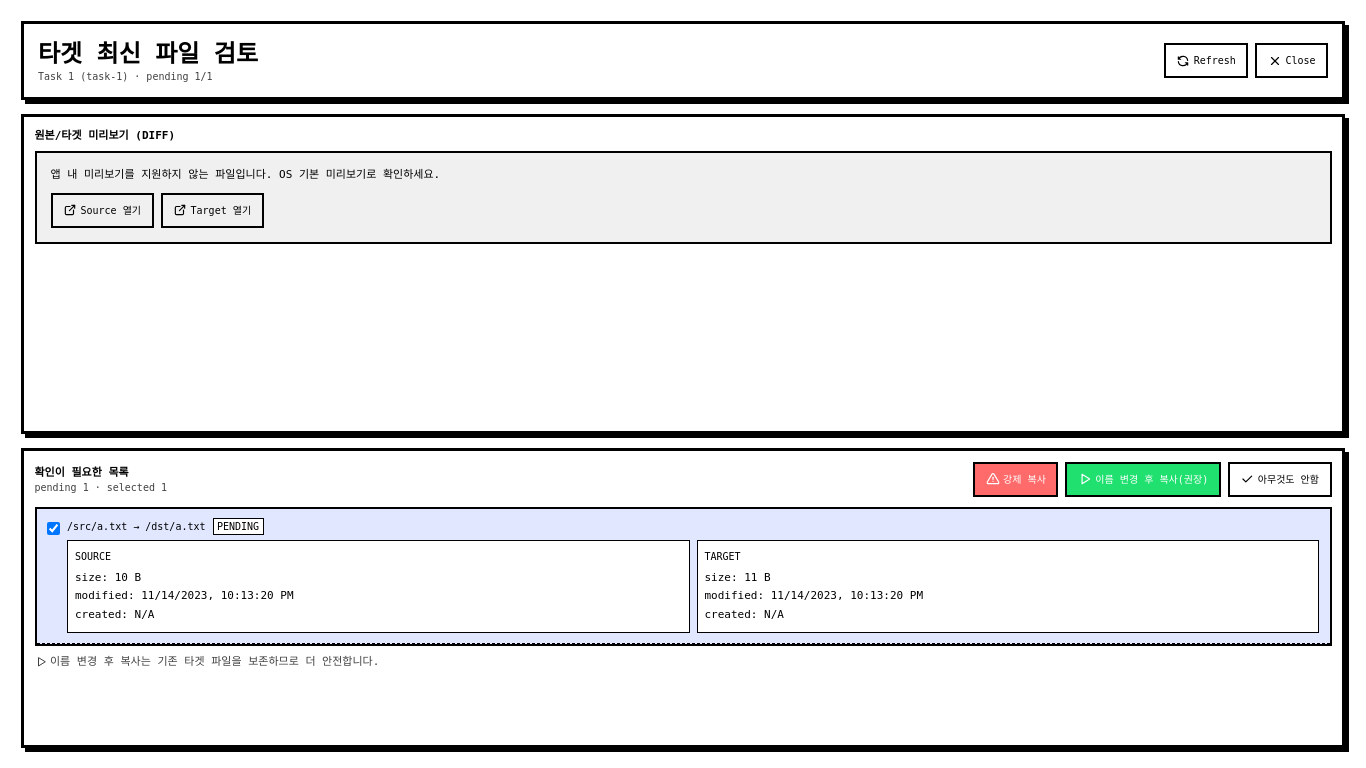
ConflictReviewWindow › keeps close button styling when confirmation dialog is open
The width and height of the screenshot is (1366, 768).
Expected: the heading "타겟 최신 파일 검토" is shown, x1=38 y1=38 x2=258 y2=70
Click the button "강제 복사" at (1016, 479), box x1=973 y1=462 x2=1058 y2=497
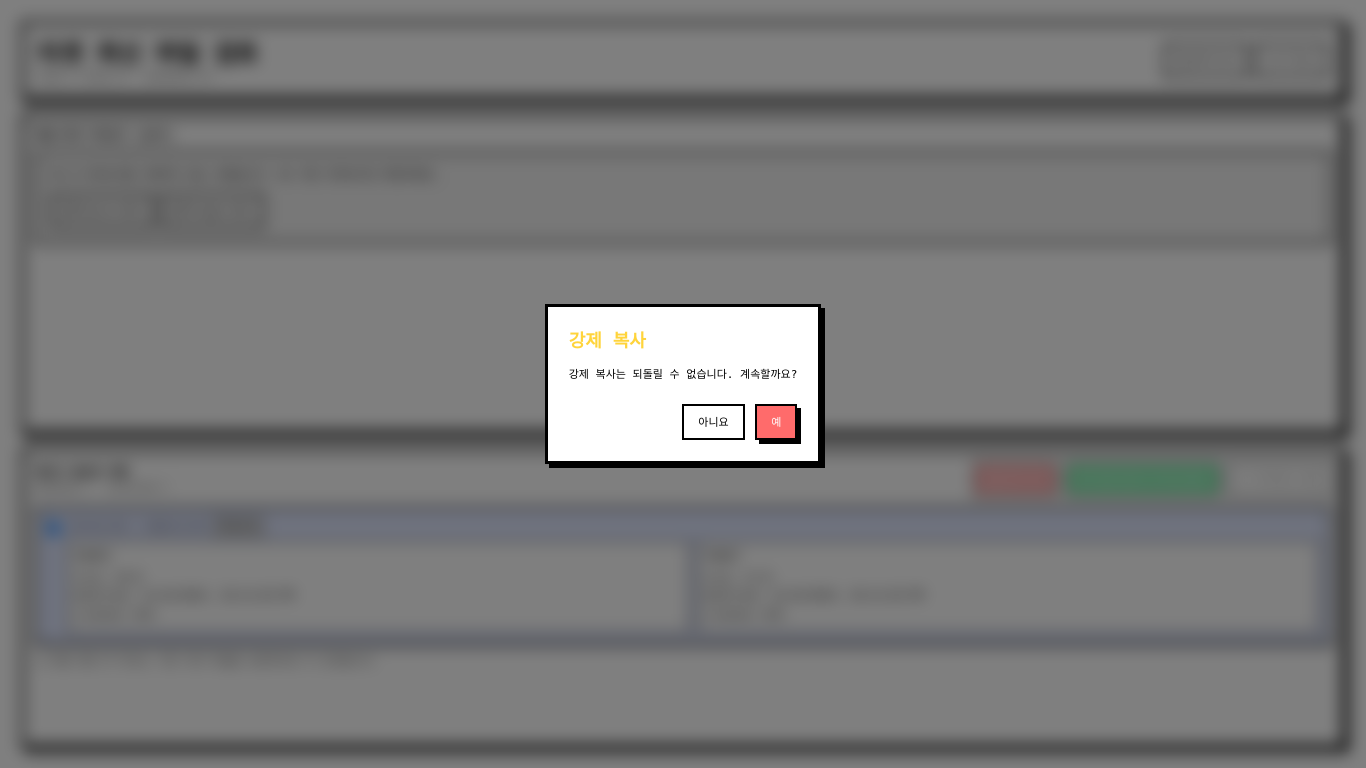
Now the text "강제 복사는 되돌릴 수 없습니다. 계속할까요?" is shown, box x1=569 y1=367 x2=797 y2=383
